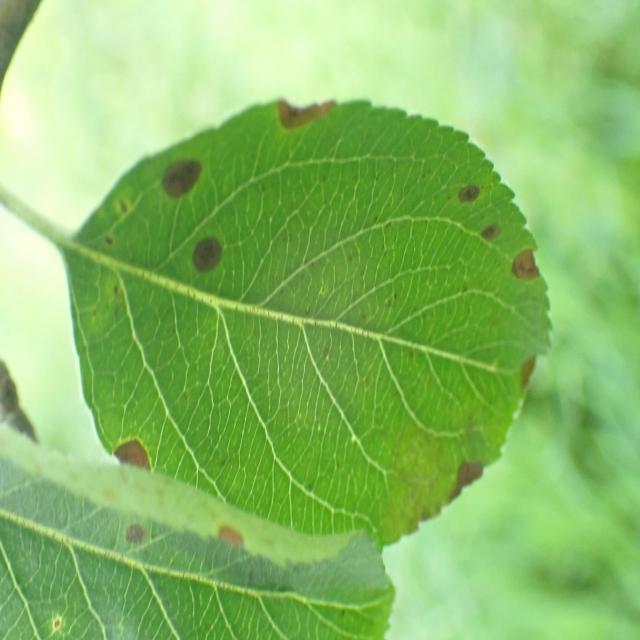frog-eye-leaf-spot: (63, 99, 554, 555), (0, 427, 398, 640)
